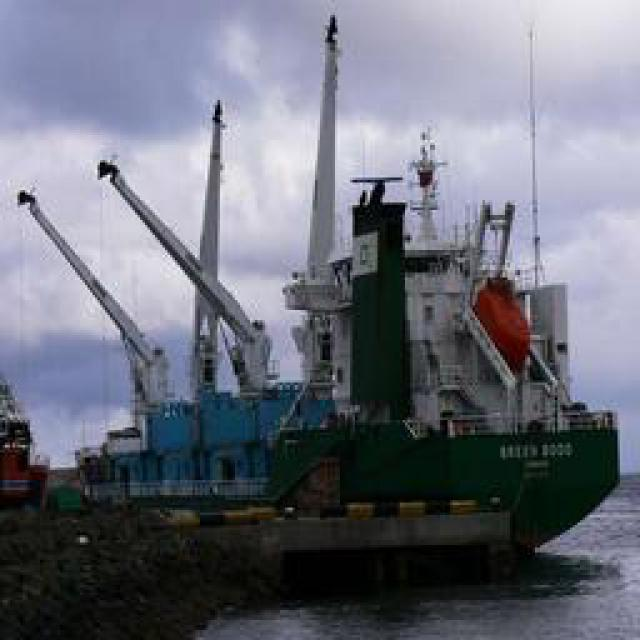Ship: (67, 64, 610, 577)
